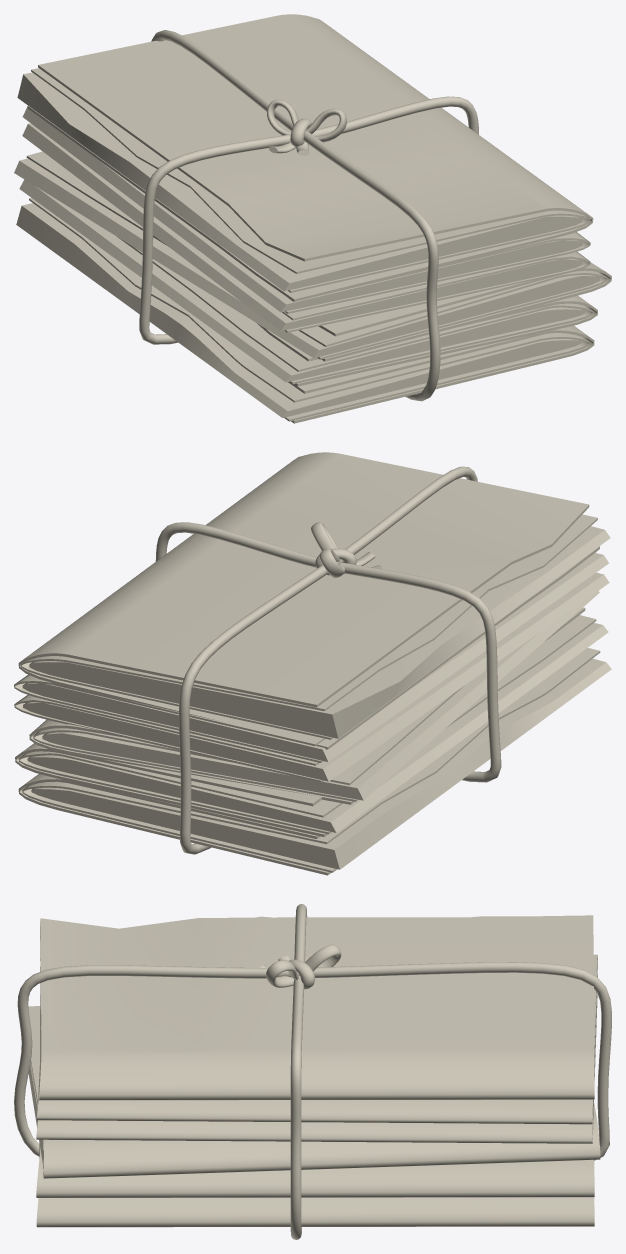
File: rua_newspaper.glb
3 renders of one model, top to bottom at view 1: azimuth 30°, elevation 25°; view 2: azimuth 150°, elevation 25°; view 3: azimuth 270°, elevation 25°, orthographic. The views are drawn at different scales.
Parts seen in each view (by area): view 1: SM_NewsPaper; view 2: SM_NewsPaper; view 3: SM_NewsPaper.
Part boxes in pixels (bbox=[...]): SM_NewsPaper: bbox=[14, 14, 611, 423]; SM_NewsPaper: bbox=[14, 452, 611, 875]; SM_NewsPaper: bbox=[14, 904, 611, 1239].
Size of what is drawn, in the model's own units: 0.3992 by 0.2353 by 0.5687.
